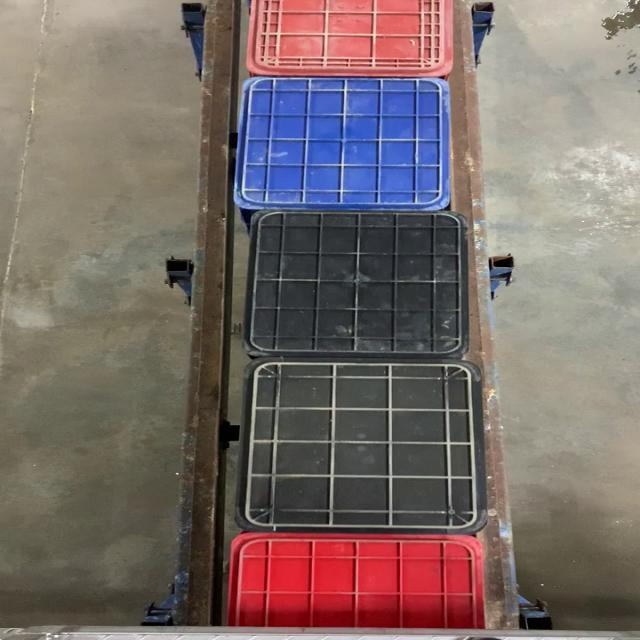Box: (232, 358, 490, 536), (242, 210, 472, 358), (234, 75, 452, 211)
